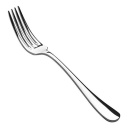fork: (8, 4, 120, 128)
